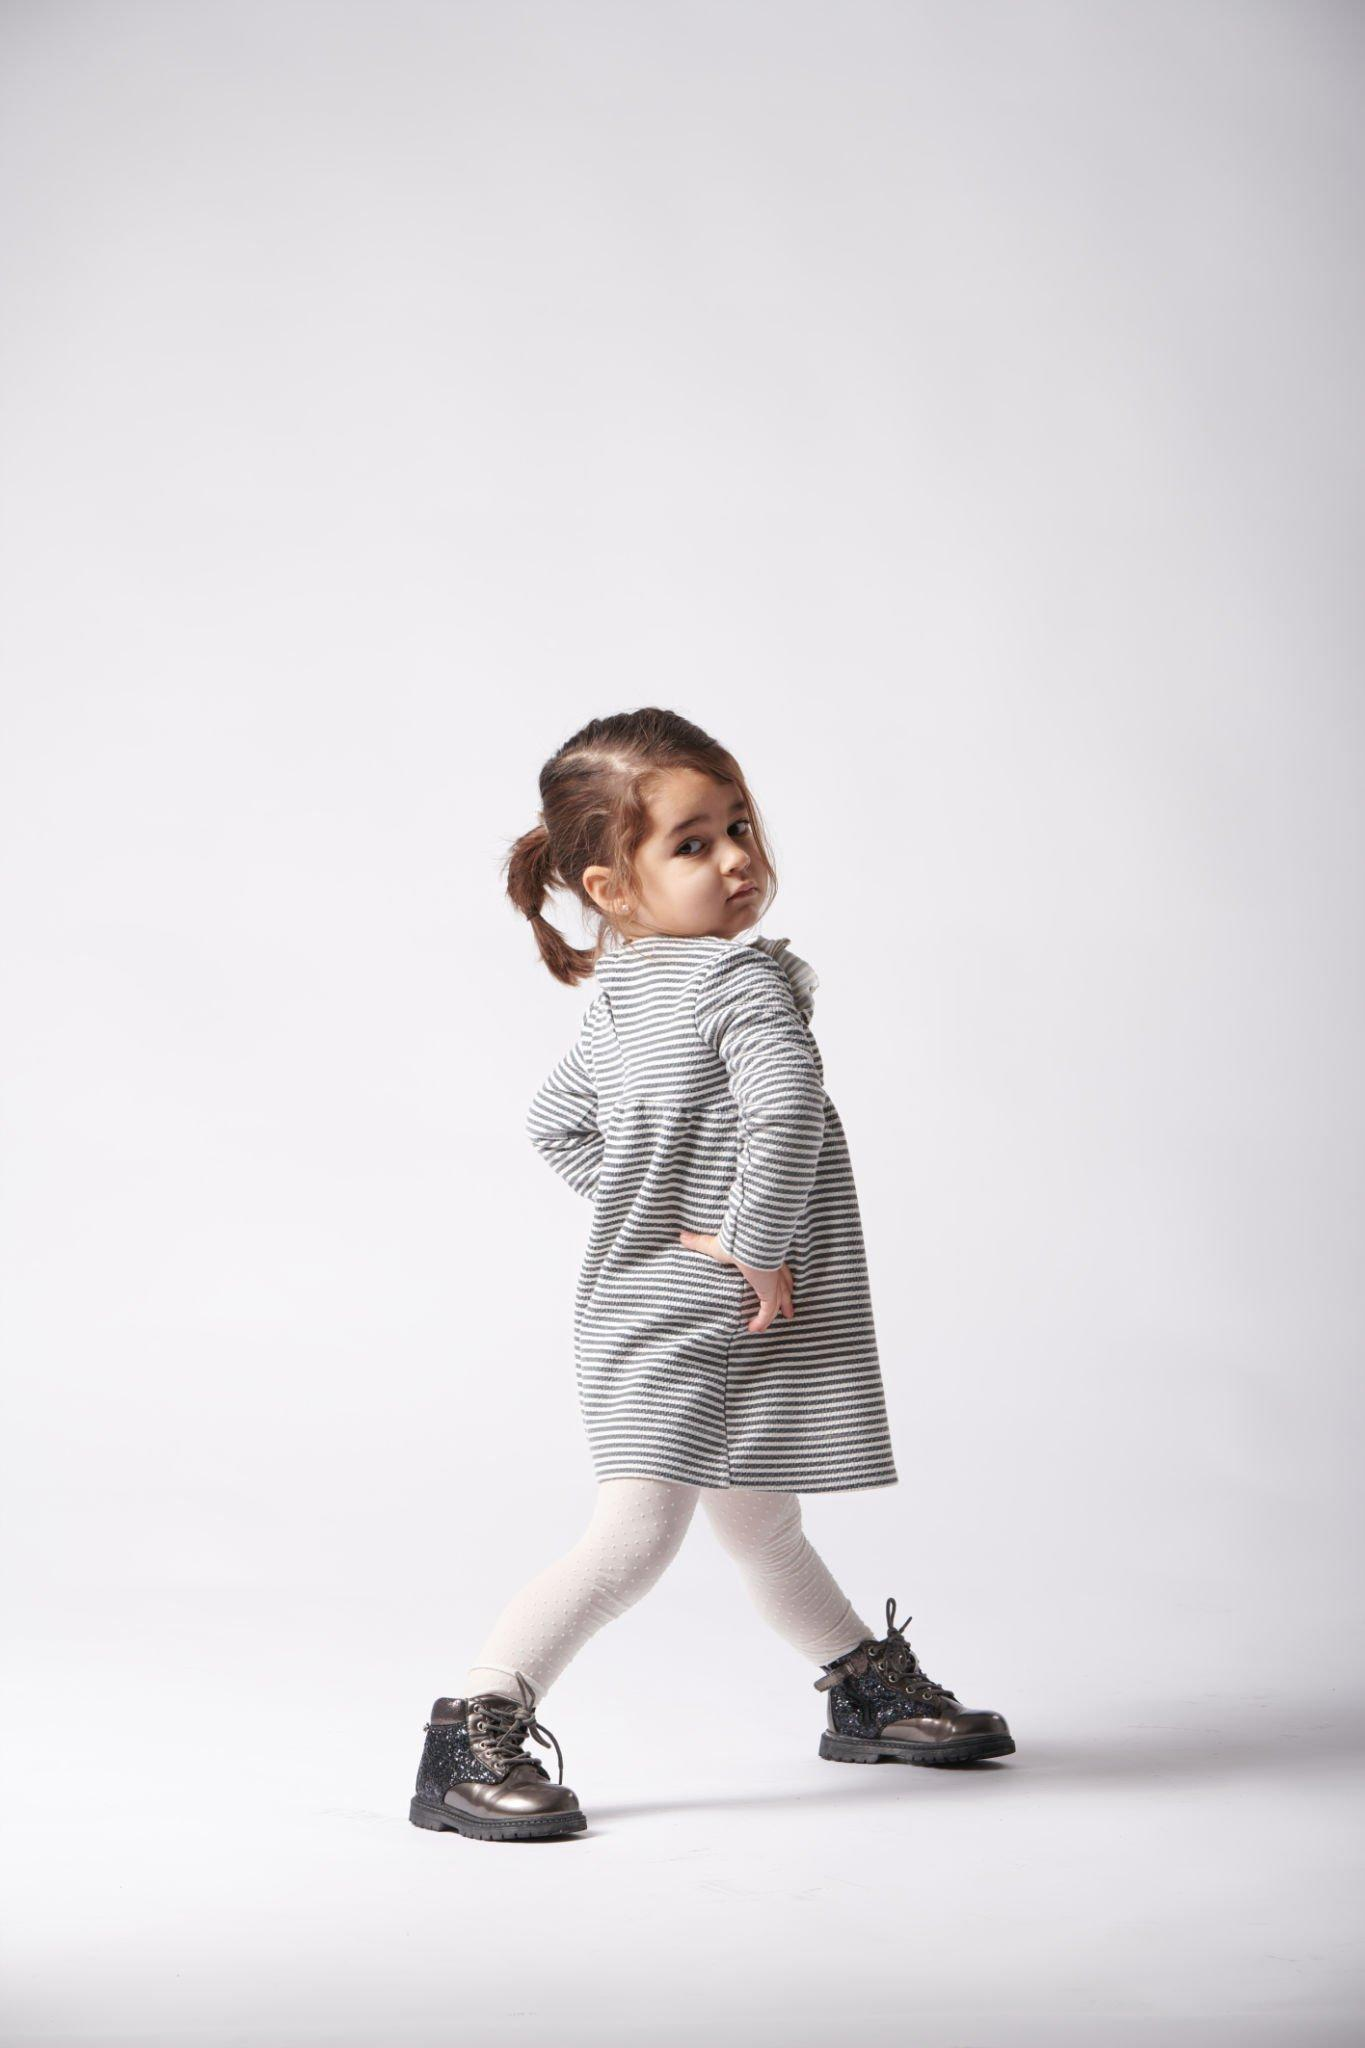Healthy: (591, 672, 809, 943)
